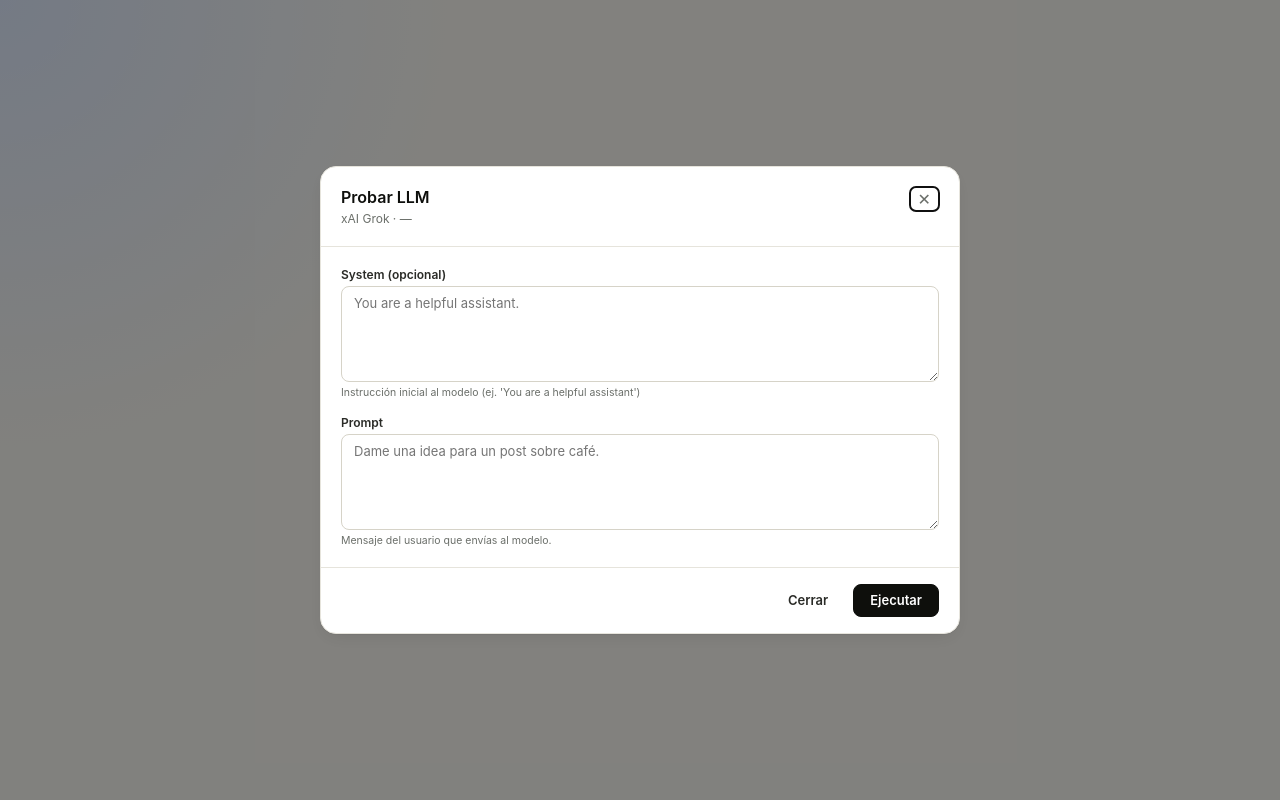
it: <TestProviderModal/> — render › handleClose es no-op cuando running=true
In the text box with placeholder "Dame una idea para un post sobre café.": (640, 482) [341,434,939,530], type "hi"
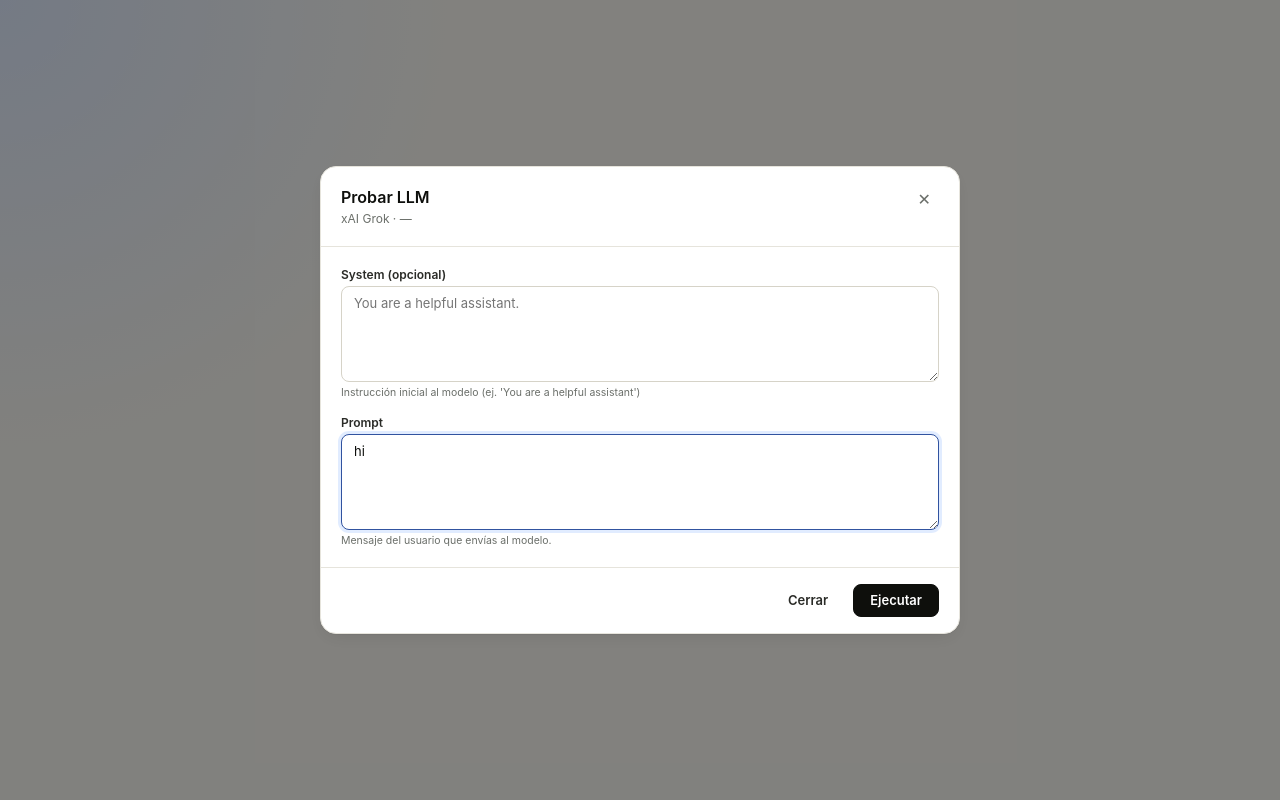
Click the button "Ejecutar": (896, 600) [853,584,939,617]
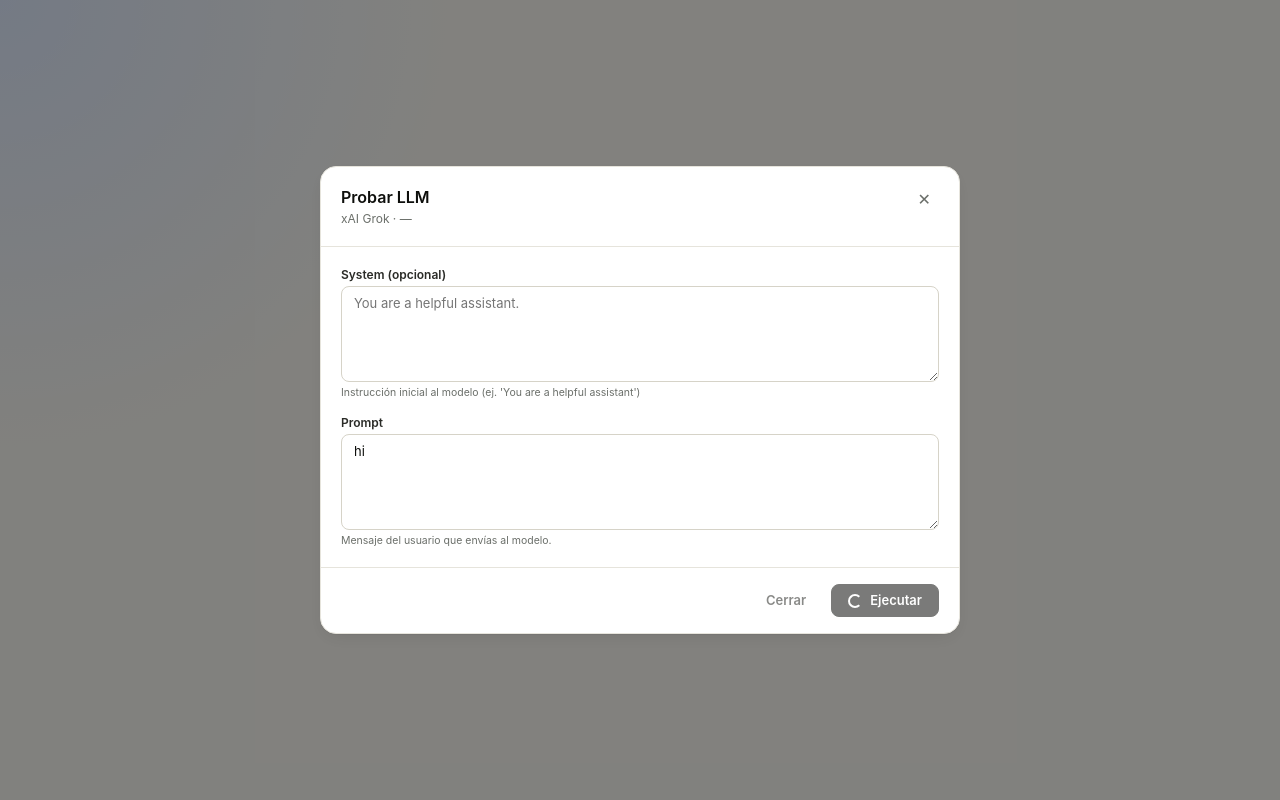
Click the button "Cerrar": (786, 600) [749,584,823,617]
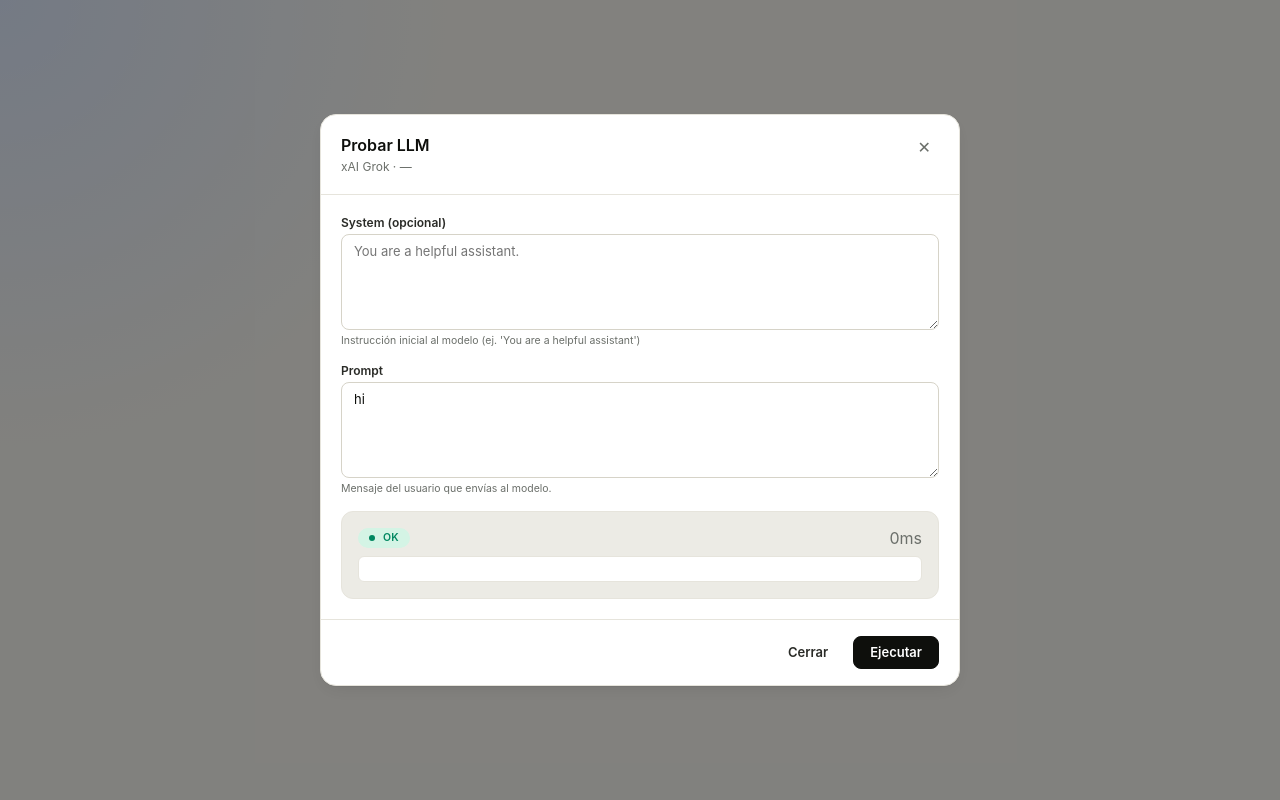
Now the element with test id "test-result-ok" is shown, box [341,511,939,599]
